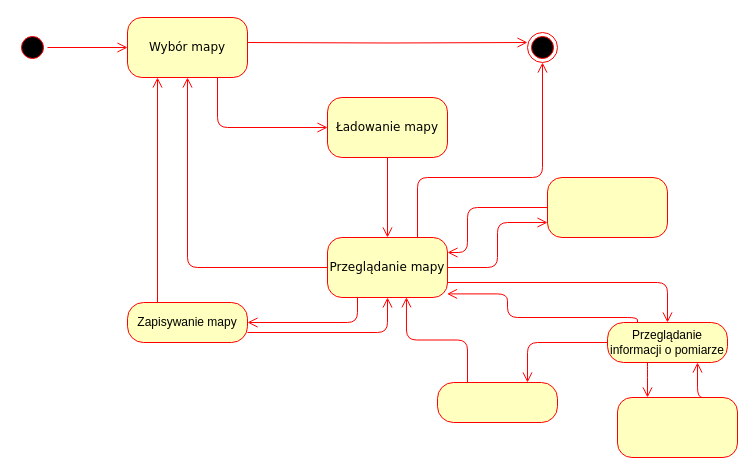
Some shapes in this 755 by 475 pixel diagram are drawn without their labels. The box of each missing label's shape, as (x1, y1, x2, y2) in pixels:
Dodawanie pomiaru: (546, 176, 668, 238)
Modyfikacja istniejących pomiarów: (616, 396, 738, 458)
Usuwanie pomiaru: (436, 382, 558, 422)
